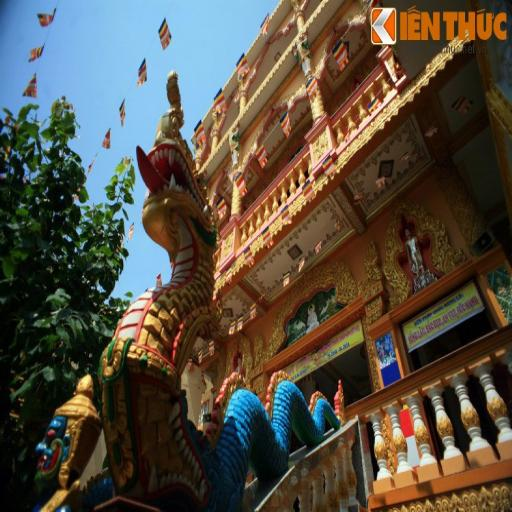ran: (101, 106, 218, 499)
than: (35, 382, 98, 498), (404, 225, 438, 293), (293, 34, 312, 76), (228, 122, 239, 169), (306, 304, 318, 331), (235, 355, 244, 372)
